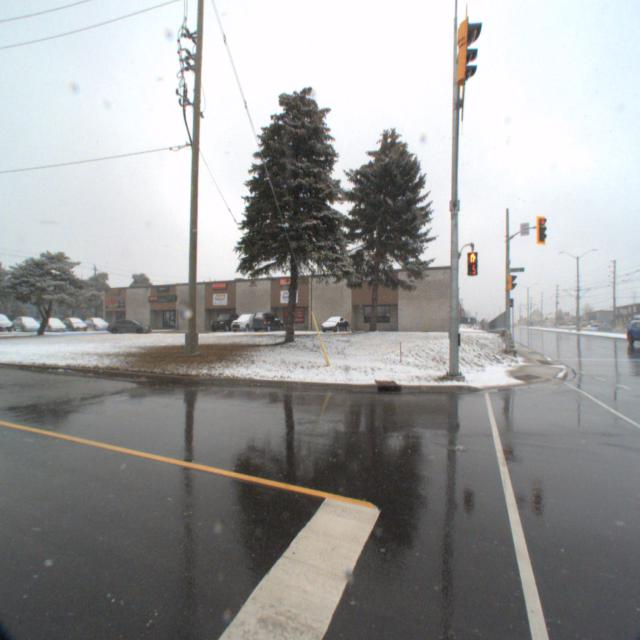Car: (101, 320, 152, 338), (249, 314, 283, 336), (227, 315, 261, 336), (317, 316, 349, 336), (78, 320, 108, 336)
